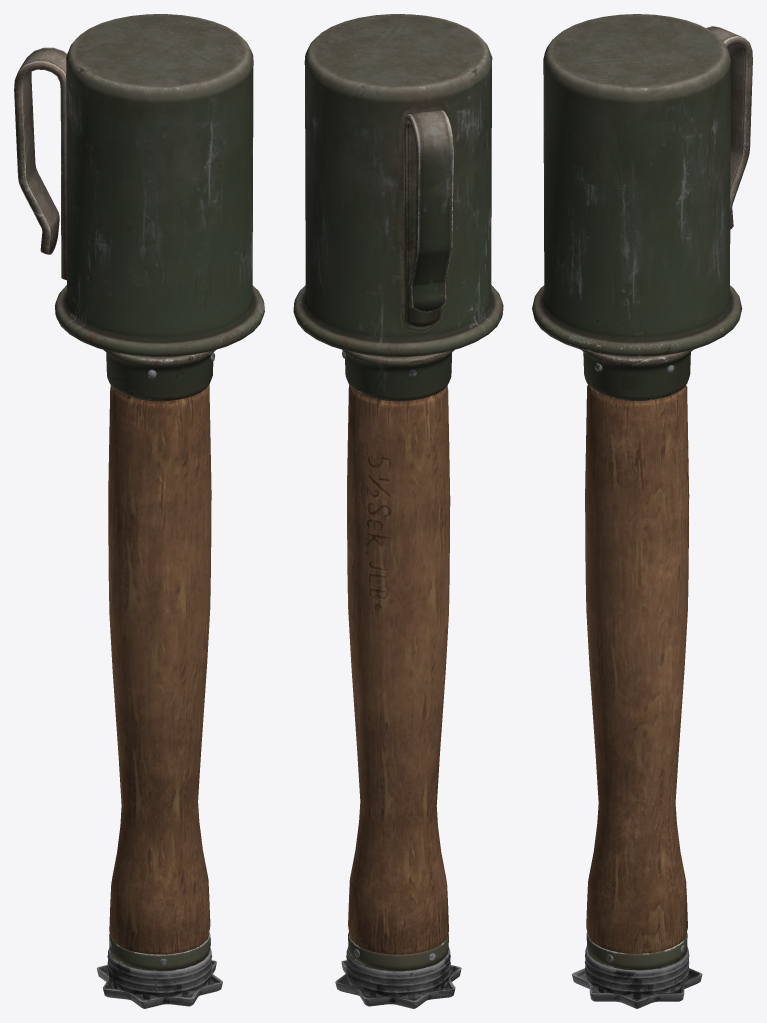
File: stick_grenade.fae4a9baf0.glb
3 renders of one model, left to right at view 1: azimuth 30°, elevation 25°; view 2: azimuth 150°, elevation 25°; view 3: azimuth 270°, elevation 25°, orthographic.
Parts seen in each view (by area): view 1: stick_grenade; view 2: stick_grenade; view 3: stick_grenade.
Part boxes in pixels (box(x1,y1,x2,y2)): stick_grenade: box(14, 14, 264, 1008); stick_grenade: box(293, 14, 503, 1008); stick_grenade: box(532, 14, 752, 1008).
Size of the model in its own units: 0.0813 by 0.3794 by 0.0813.
Materials: 1 (1 with a texture image).
